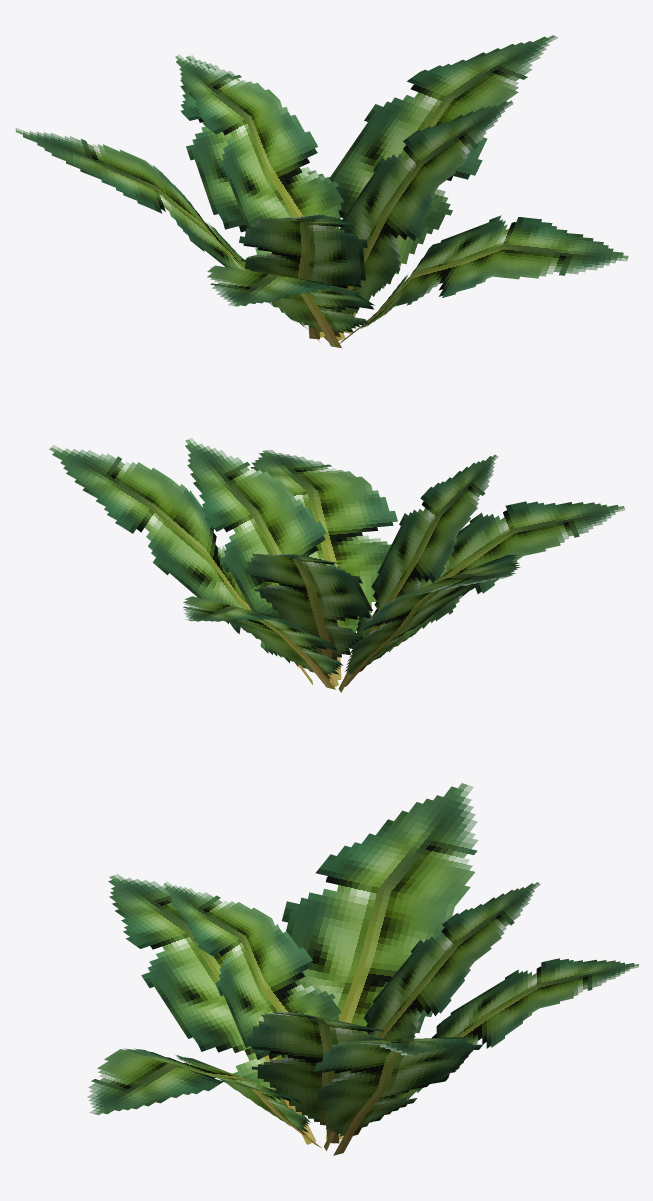
The model's file is Fern.fbx.
3 renders of one model, top to bottom at view 1: azimuth 30°, elevation 25°; view 2: azimuth 150°, elevation 25°; view 3: azimuth 270°, elevation 25°, orthographic. The views are drawn at different scales.
Visible parts, largest first — view 1: Plane.007; view 2: Plane.007; view 3: Plane.007.
Part boxes in pixels (x1,y1,x2,y2): Plane.007: (15, 35, 628, 347); Plane.007: (49, 438, 625, 692); Plane.007: (87, 783, 638, 1155).
Size of the model in its own units: 338 by 133 by 313.
